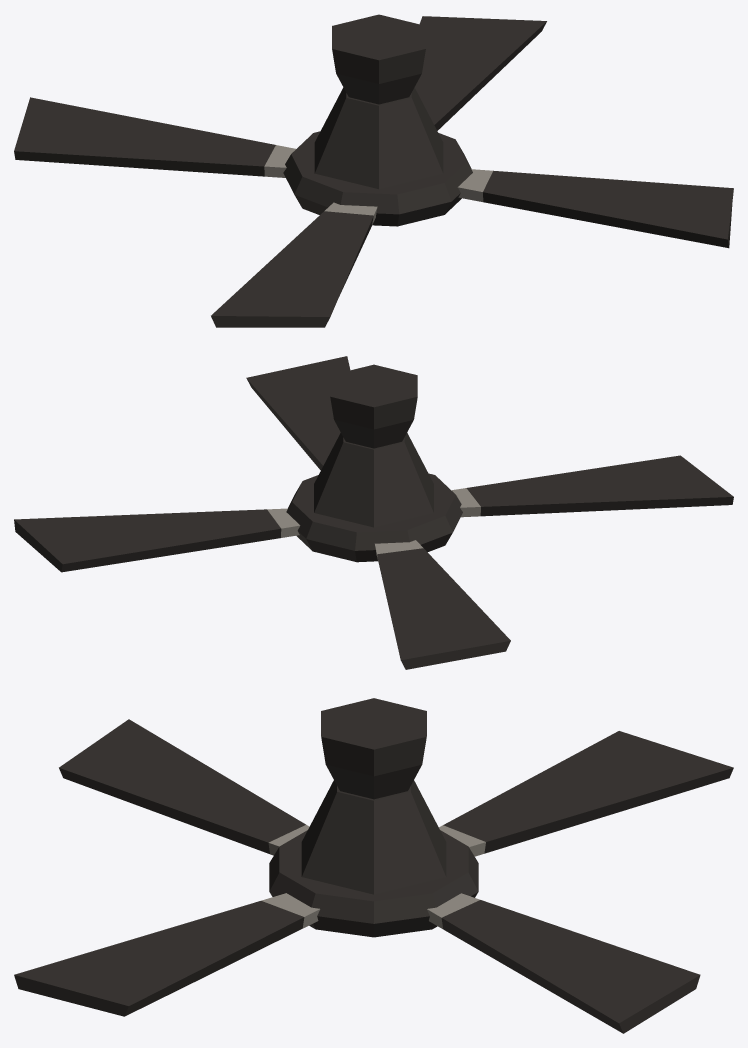
File: Fan.fbx
3 renders of one model, top to bottom at view 1: azimuth 30°, elevation 25°; view 2: azimuth 150°, elevation 25°; view 3: azimuth 270°, elevation 25°, orthographic. The views are drawn at different scales.
Parts seen in each view (by area): view 1: polySurface1593, polySurface1594; view 2: polySurface1593, polySurface1594; view 3: polySurface1593, polySurface1594.
Boxes of the visible parts, left/top/right/bottom form: polySurface1593: left=14, top=16, right=733, bottom=327; polySurface1594: left=314, top=14, right=443, bottom=189; polySurface1593: left=14, top=356, right=733, bottom=669; polySurface1594: left=314, top=364, right=433, bottom=527; polySurface1593: left=14, top=719, right=733, bottom=1033; polySurface1594: left=301, top=698, right=446, bottom=894.
Bounding box in the file's own units: 1.45 × 0.3815 × 1.45.
Materials: 1 (1 with a texture image).
